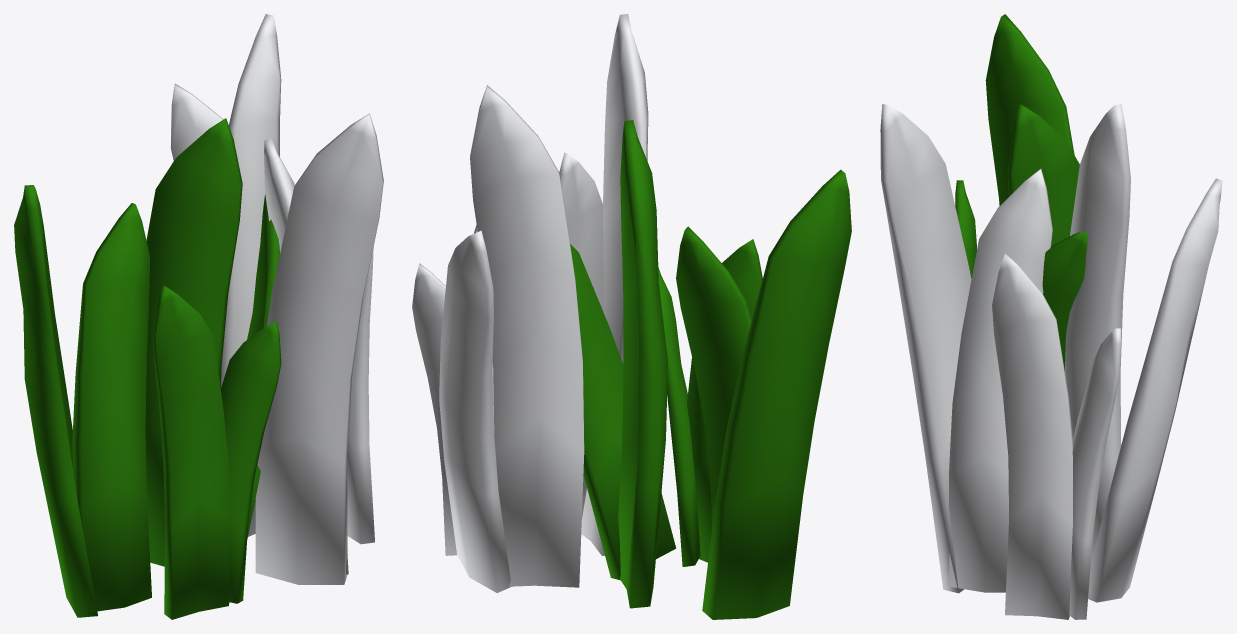
Rendered from grass-15_col.fbx.
3 views of the same model, side by side, from view 1: azimuth 30°, elevation 25°; view 2: azimuth 150°, elevation 25°; view 3: azimuth 270°, elevation 25° (orthographic).
Visible parts, largest first — view 1: grass-15.col; view 2: grass-15.col; view 3: grass-15.col.
Part boxes in pixels (x1,y1,x2,y2): grass-15.col: (14,14,383,619); grass-15.col: (412,14,851,619); grass-15.col: (880,14,1222,619).
Bounding box in the file's own units: 0.1003 × 0.1269 × 0.0799.
1 material, 1 textured.
